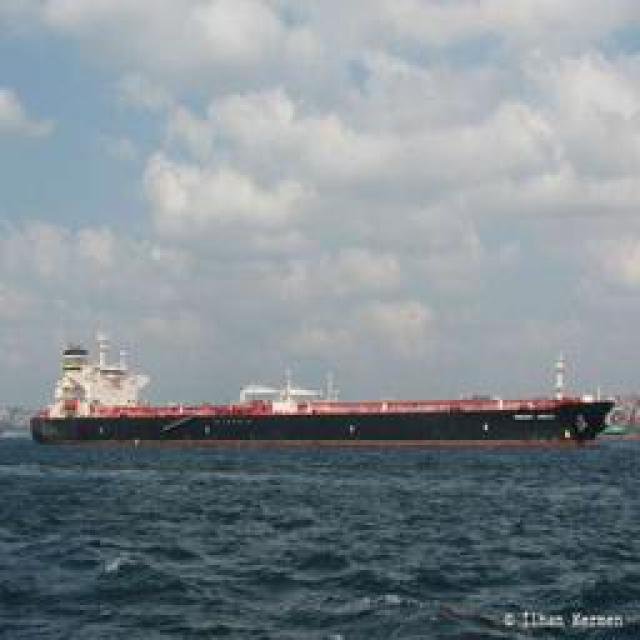Ship: (34, 355, 614, 450)
